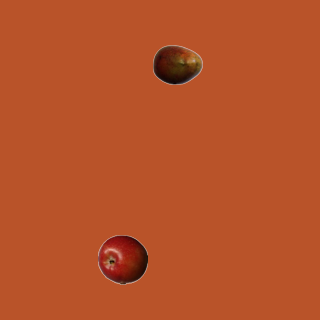Apple Braeburn: (97, 234, 147, 284)
Mango Red: (152, 39, 202, 89)
